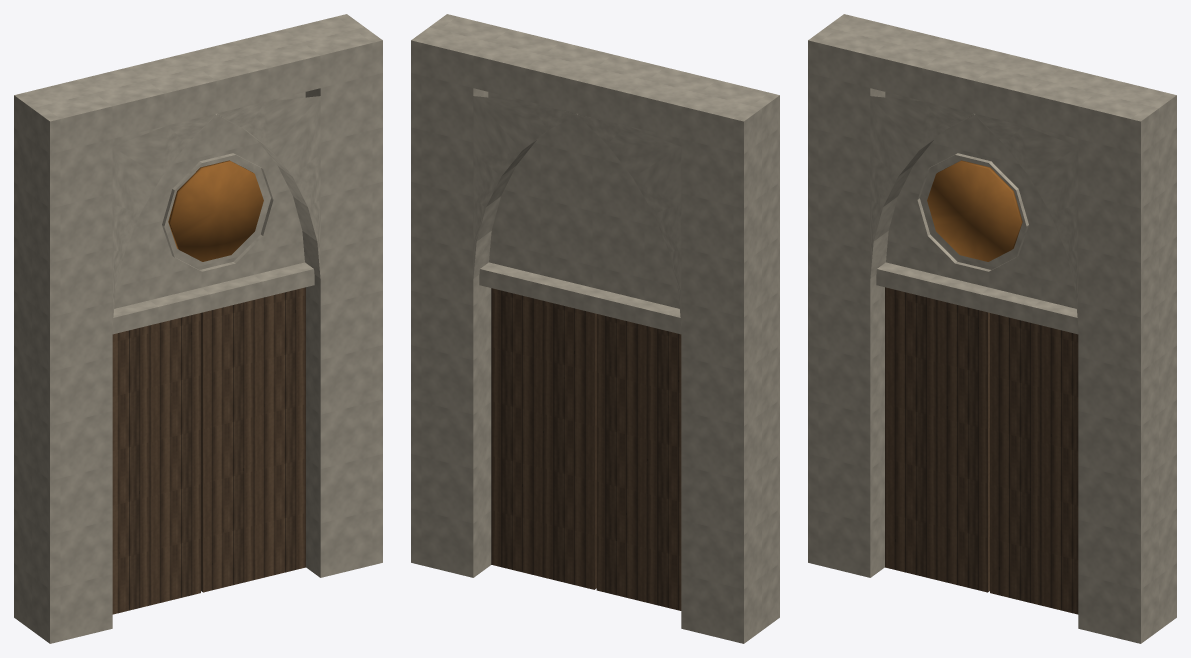
Rendered from Portal_Gothic_1_LOD1.gltf.
The picture shows the model from 3 angles, left to right: view 1: azimuth 30°, elevation 25°; view 2: azimuth 150°, elevation 25°; view 3: azimuth 330°, elevation 25°; orthographic projection.
Visible parts, largest first — view 1: Portal_Gothic_1_LOD1; view 2: Portal_Gothic_1_LOD1; view 3: Portal_Gothic_1_LOD1.
Boxes of the visible parts, x1,y1,x2,y2 form: Portal_Gothic_1_LOD1: [14, 14, 382, 643]; Portal_Gothic_1_LOD1: [411, 14, 779, 643]; Portal_Gothic_1_LOD1: [808, 14, 1176, 643].
Size of the model in its own units: 6.4 by 9.6 by 1.28.
Materials: 3 (3 with a texture image).
